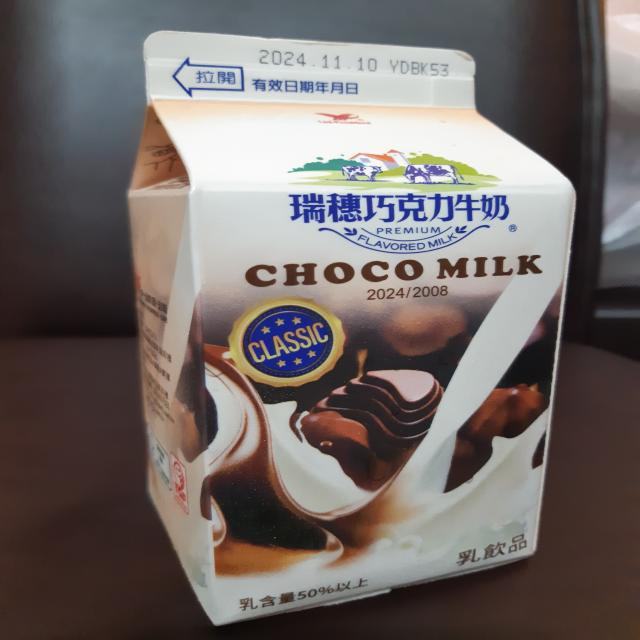RuiSui_ChocoMilk: (119, 25, 588, 632)
